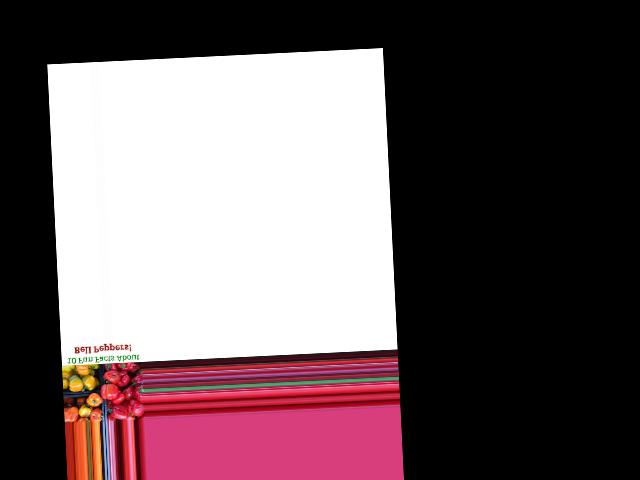bell_pepper: (113, 359, 135, 374)
